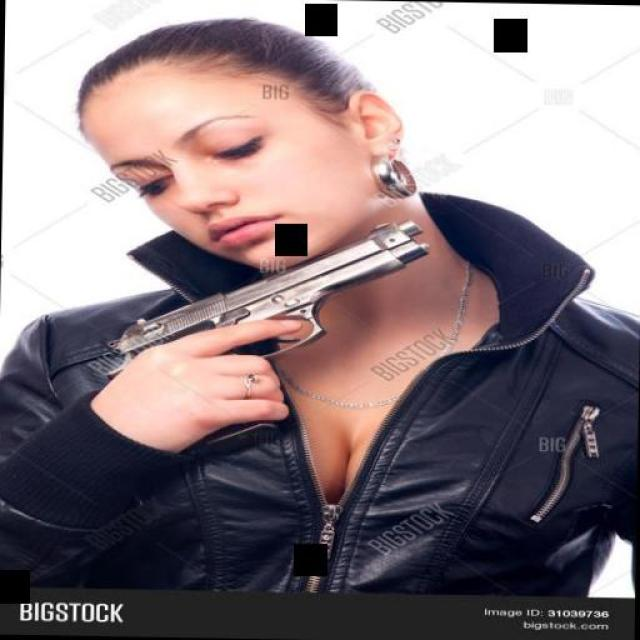gun: (114, 212, 438, 370)
